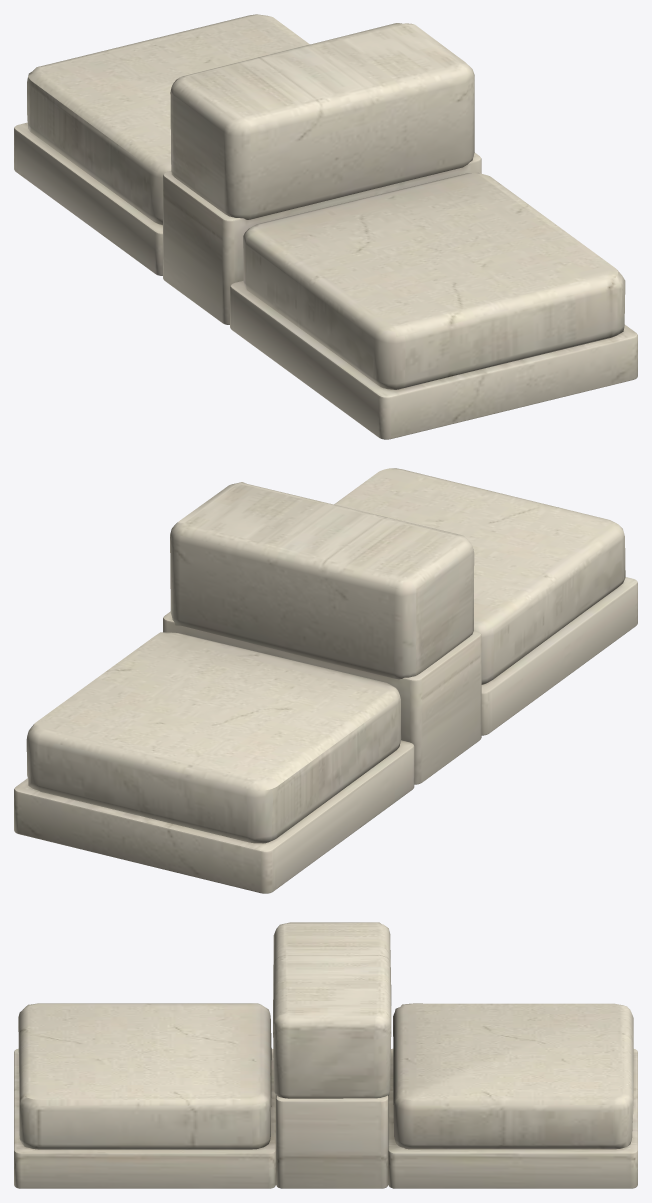
File: suite_sofa.glb
The picture shows the model from 3 angles, top to bottom: view 1: azimuth 30°, elevation 25°; view 2: azimuth 150°, elevation 25°; view 3: azimuth 270°, elevation 25°; orthographic projection. The views are drawn at different scales.
Visible parts, largest first — view 1: suite_sofa; view 2: suite_sofa; view 3: suite_sofa.
Part boxes in pixels (bbox=[...]): suite_sofa: bbox=[14, 14, 637, 439]; suite_sofa: bbox=[14, 468, 637, 893]; suite_sofa: bbox=[14, 922, 637, 1188].
Size of the model in its own units: 0.9999 by 0.7429 by 2.5.
1 material, 1 textured.
